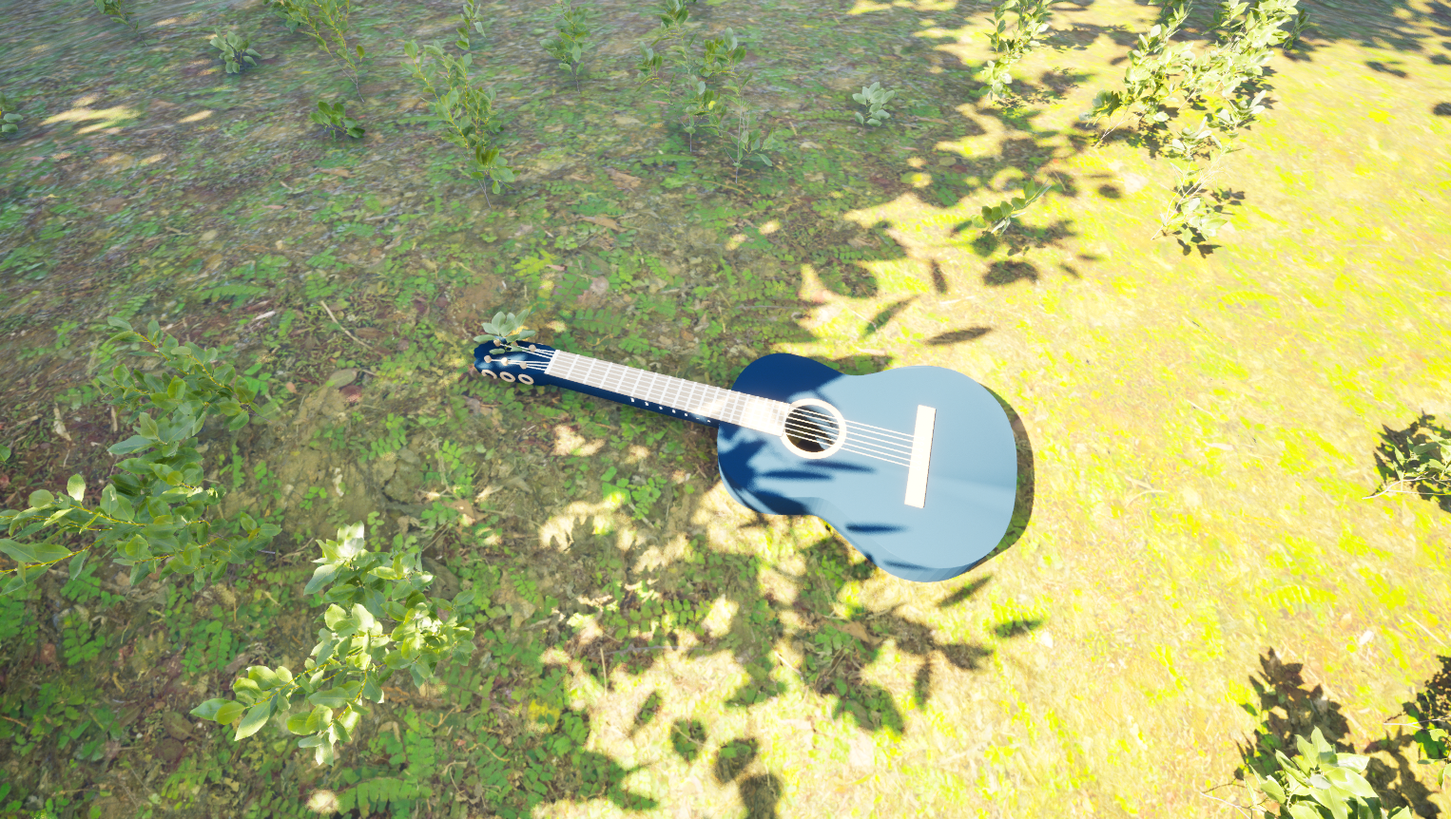Guitar: (414, 270, 1022, 603)
